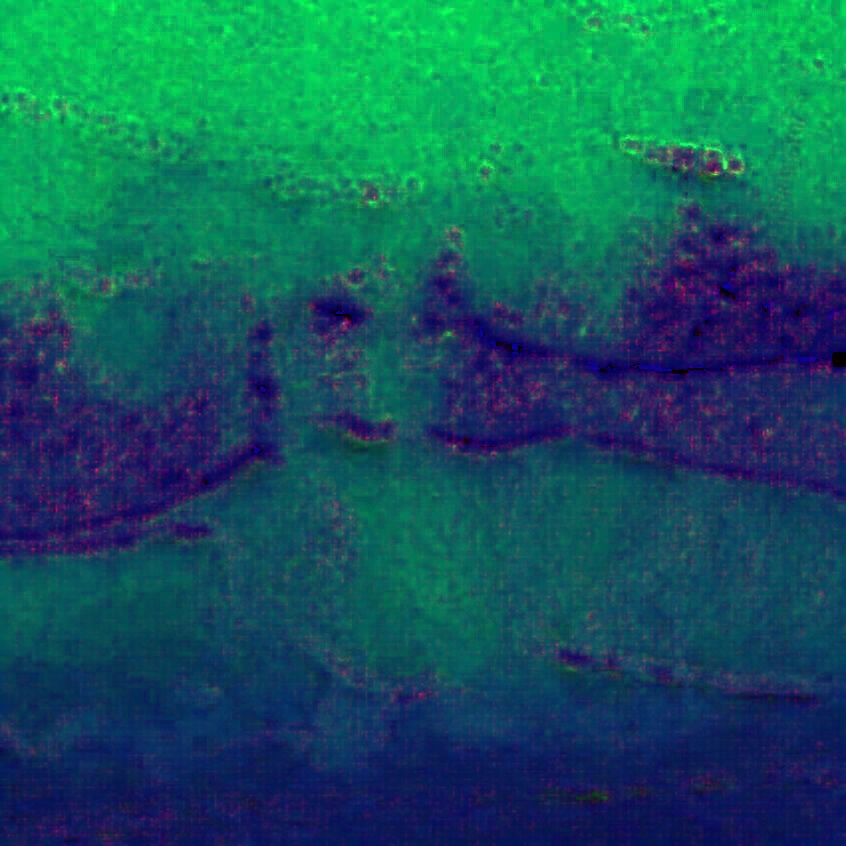rip_current: (265, 277, 511, 676)
